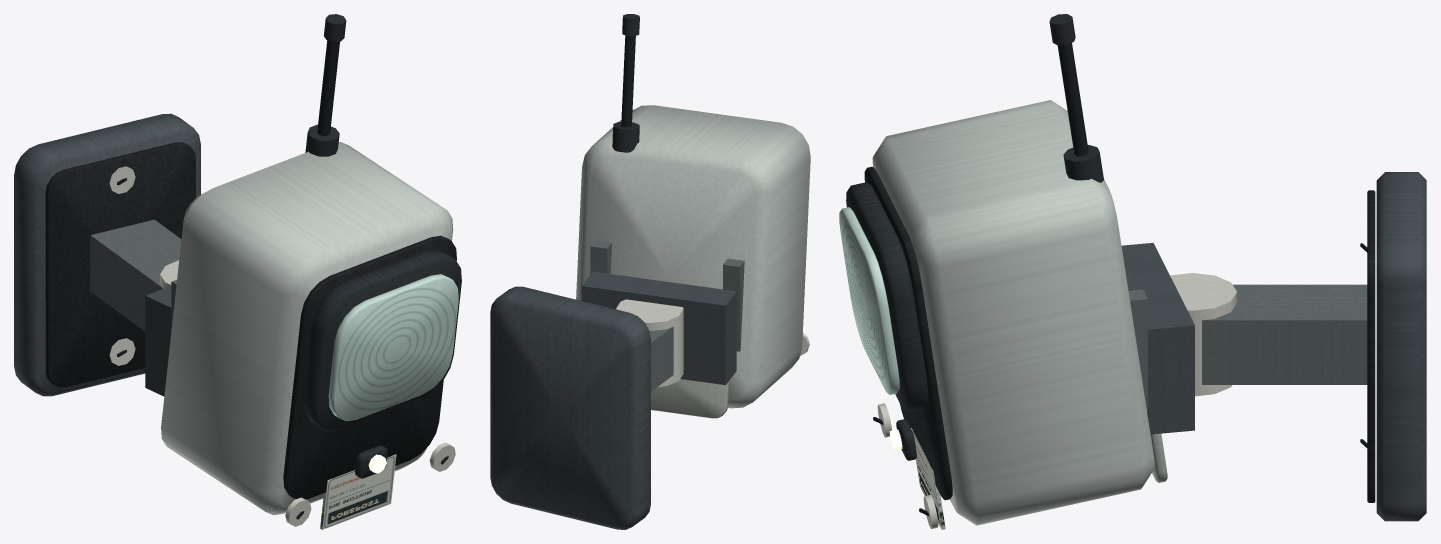
File: PZ_Battery_Motion_Sensor.glb
3 renders of one model, left to right at view 1: azimuth 30°, elevation 25°; view 2: azimuth 150°, elevation 25°; view 3: azimuth 270°, elevation 25°, orthographic. The views are drawn at different scales.
Visible parts, largest first — view 1: PIR_MainABS_Housing, PIR_Gasket, PIR_Fresnel_Lens, PIR_WallPlate, PIR_FrontSeal, PIR_OpticalCoverFrame, PIR_SwivelNeck, PIR_Model_Label, PIR_YawBracket, PIR_AntennaWhip, PIR_AntennaBase, PIR_StatusLED_Bezel (+4 smaller); view 2: PIR_MainABS_Housing, PIR_WallPlate, PIR_YawBracket, PIR_BatteryDoor, PIR_VerticalPivotPin, PIR_SwivelNeck, PIR_TiltEar_L, PIR_AntennaWhip, PIR_AntennaBase, PIR_TiltEar_R, PIR_AntennaTip; view 3: PIR_MainABS_Housing, PIR_WallPlate, PIR_SwivelNeck, PIR_YawBracket, PIR_OpticalCoverFrame, PIR_Fresnel_Lens, PIR_FrontSeal, PIR_VerticalPivotPin, PIR_Gasket, PIR_AntennaWhip, PIR_TiltEar_R, PIR_AntennaBase (+2 smaller).
Boxes of the visible parts, bbox=[...] form: PIR_MainABS_Housing: bbox=[161, 142, 453, 515]; PIR_Gasket: bbox=[45, 142, 195, 387]; PIR_Fresnel_Lens: bbox=[328, 274, 458, 421]; PIR_WallPlate: bbox=[14, 113, 200, 396]; PIR_FrontSeal: bbox=[283, 235, 456, 499]; PIR_OpticalCoverFrame: bbox=[304, 249, 461, 431]; PIR_SwivelNeck: bbox=[90, 219, 181, 331]; PIR_Model_Label: bbox=[320, 454, 396, 529]; PIR_YawBracket: bbox=[145, 286, 171, 396]; PIR_AntennaWhip: bbox=[317, 40, 339, 135]; PIR_AntennaBase: bbox=[305, 124, 339, 156]; PIR_StatusLED_Bezel: bbox=[355, 445, 387, 478]; PIR_MainABS_Housing: bbox=[576, 105, 810, 408]; PIR_WallPlate: bbox=[490, 286, 650, 529]; PIR_YawBracket: bbox=[581, 271, 736, 384]; PIR_BatteryDoor: bbox=[651, 379, 729, 418]; PIR_VerticalPivotPin: bbox=[616, 299, 683, 387]; PIR_SwivelNeck: bbox=[649, 326, 673, 391]; PIR_TiltEar_L: bbox=[723, 258, 744, 351]; PIR_AntennaWhip: bbox=[621, 35, 635, 127]; PIR_AntennaBase: bbox=[612, 122, 639, 152]; PIR_TiltEar_R: bbox=[590, 240, 611, 274]; PIR_AntennaTip: bbox=[622, 14, 639, 36]; PIR_MainABS_Housing: bbox=[872, 100, 1154, 525]; PIR_WallPlate: bbox=[1376, 172, 1426, 521]; PIR_SwivelNeck: bbox=[1202, 284, 1367, 384]; PIR_YawBracket: bbox=[1121, 242, 1194, 434]; PIR_OpticalCoverFrame: bbox=[846, 182, 928, 411]; PIR_Fresnel_Lens: bbox=[839, 207, 899, 394]; PIR_FrontSeal: bbox=[864, 166, 952, 500]; PIR_VerticalPivotPin: bbox=[1170, 273, 1236, 396]; PIR_Gasket: bbox=[1367, 190, 1375, 502]; PIR_AntennaWhip: bbox=[1057, 43, 1088, 156]; PIR_TiltEar_R: bbox=[1128, 289, 1148, 411]; PIR_AntennaBase: bbox=[1063, 145, 1103, 182].
Bounding box in the file's own units: 0.1146 × 0.2139 × 0.223.
Materials: 2 (2 with a texture image).
